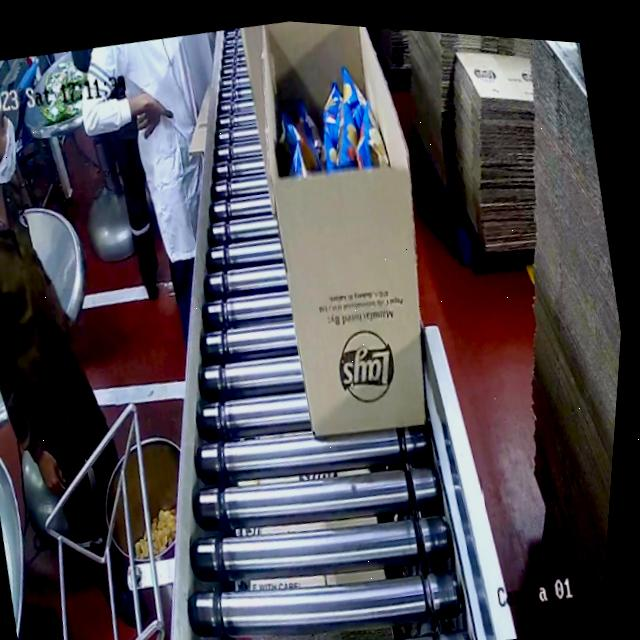PAPRIKA: (262, 59, 396, 185)
